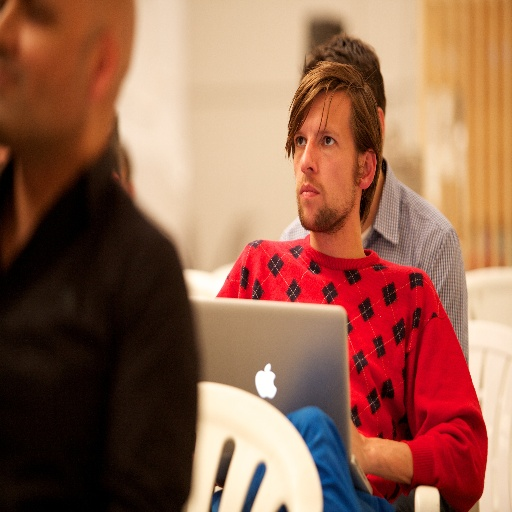hand: (351, 419, 364, 474)
